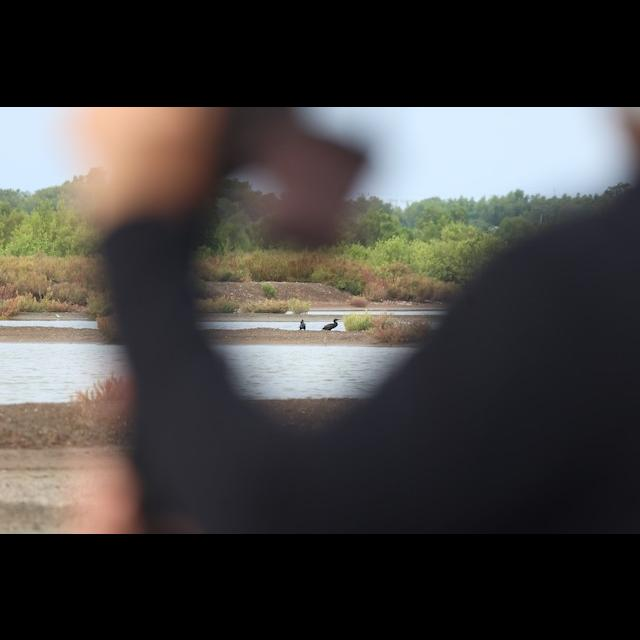cormorant: (322, 316, 342, 330)
